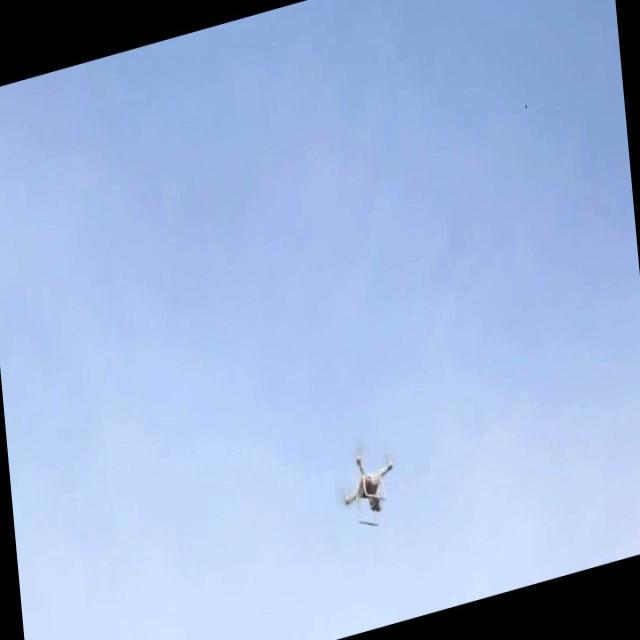drone: (342, 442, 398, 527)
